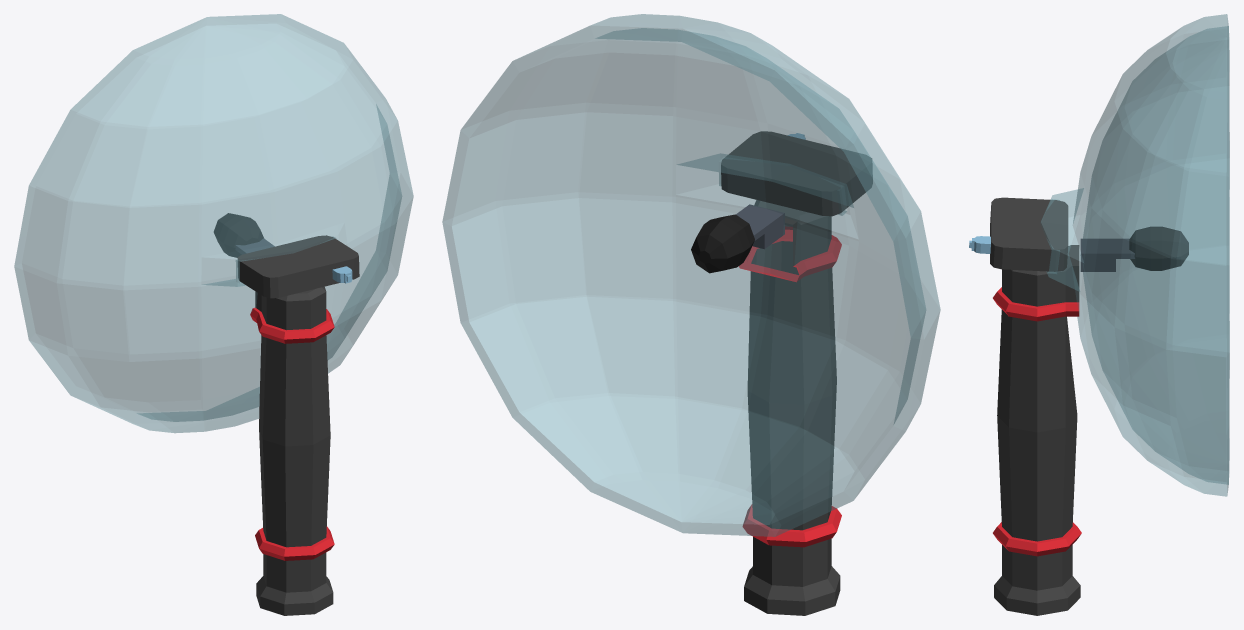
Rendered from ParabolicMic.fbx.
3 renders of one model, left to right at view 1: azimuth 30°, elevation 25°; view 2: azimuth 150°, elevation 25°; view 3: azimuth 270°, elevation 25°, orthographic. The views are drawn at different scales.
Visible parts, largest first — view 1: microphoneParabolicShield, microphoneHandle, microphoneData, microphone; view 2: microphoneParabolicShield, microphoneHandle, microphoneData, microphone, microphoneMount; view 3: microphoneParabolicShield, microphoneHandle, microphoneData, microphone, microphoneMount.
Part boxes in pixels (left/top/right/bottom): microphoneParabolicShield: left=14, top=14, right=413, bottom=433; microphoneHandle: left=250, top=286, right=334, bottom=615; microphoneData: left=237, top=235, right=359, bottom=298; microphone: left=214, top=213, right=263, bottom=257; microphoneParabolicShield: left=442, top=14, right=940, bottom=536; microphoneHandle: left=739, top=200, right=841, bottom=615; microphoneData: left=721, top=131, right=872, bottom=216; microphone: left=691, top=214, right=754, bottom=273; microphoneMount: left=736, top=204, right=784, bottom=249; microphoneParabolicShield: left=1040, top=14, right=1229, bottom=496; microphoneHandle: left=993, top=245, right=1081, bottom=615; microphoneData: left=990, top=197, right=1068, bottom=271; microphone: left=1129, top=226, right=1188, bottom=270; microphoneMount: left=1080, top=238, right=1134, bottom=271.
Bounding box in the file's own units: 0.4097 × 0.5255 × 0.2213.
